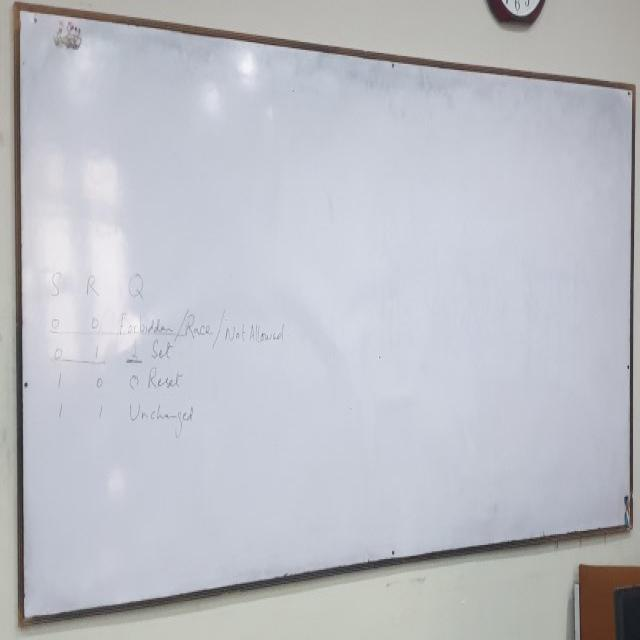White-board: (17, 5, 632, 624)
